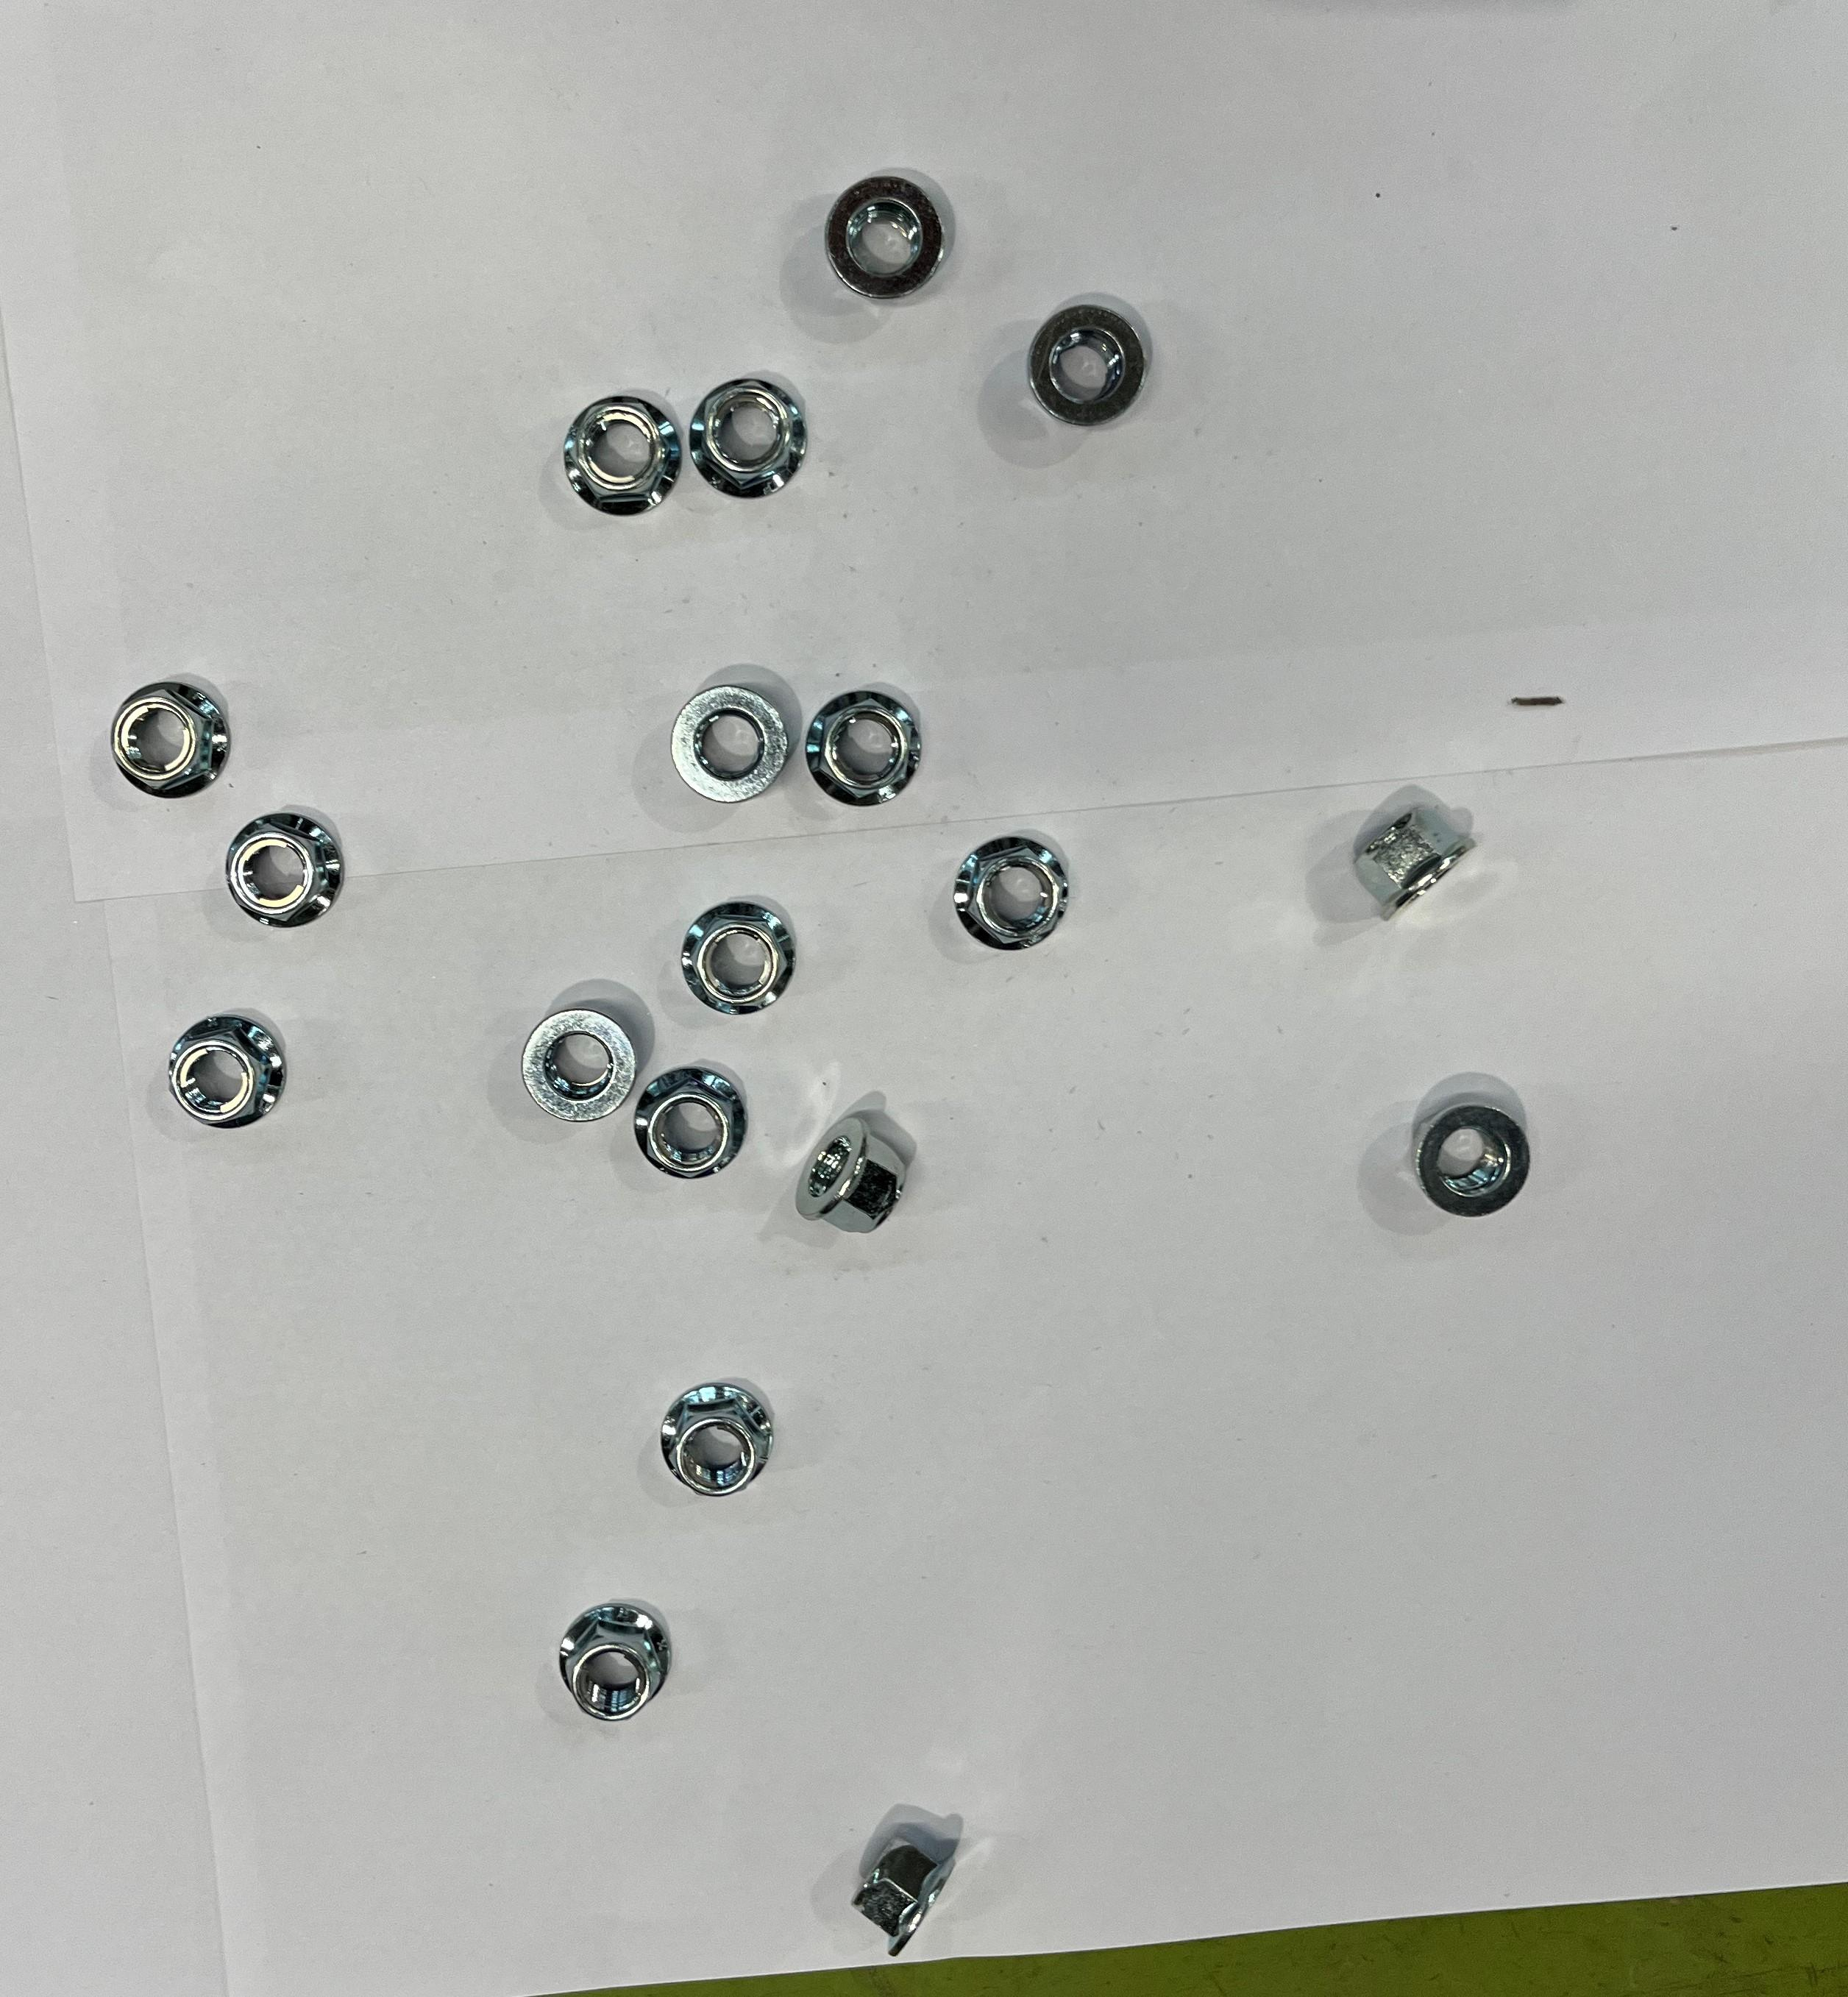Type B: (824, 169, 946, 297), (1029, 299, 1146, 428), (563, 390, 680, 515), (669, 682, 789, 802), (551, 1606, 675, 1722), (110, 684, 233, 800), (796, 1110, 909, 1237), (229, 809, 344, 929), (165, 1016, 282, 1131), (690, 383, 808, 496), (808, 691, 923, 805), (522, 1009, 635, 1125), (635, 1066, 751, 1179), (678, 903, 796, 1014), (951, 837, 1066, 950), (659, 1386, 774, 1496), (854, 1835, 954, 1957)
